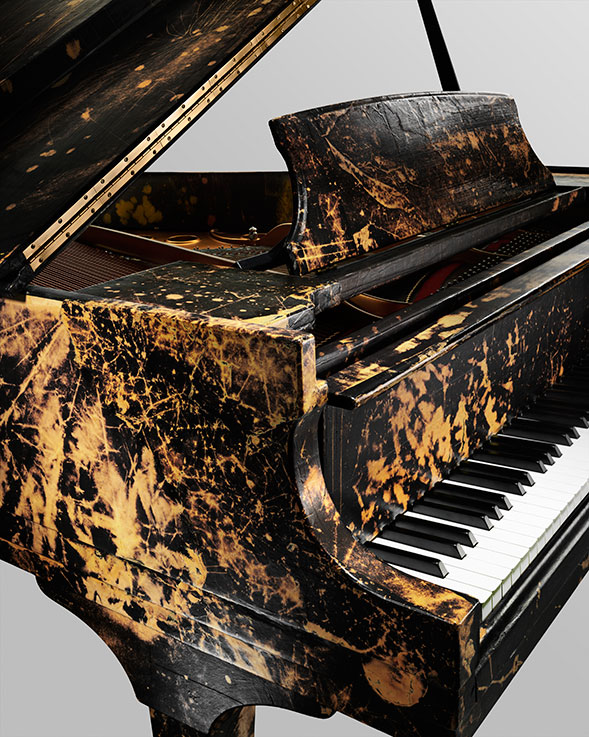GrandPiano: (32, 61, 579, 701)
